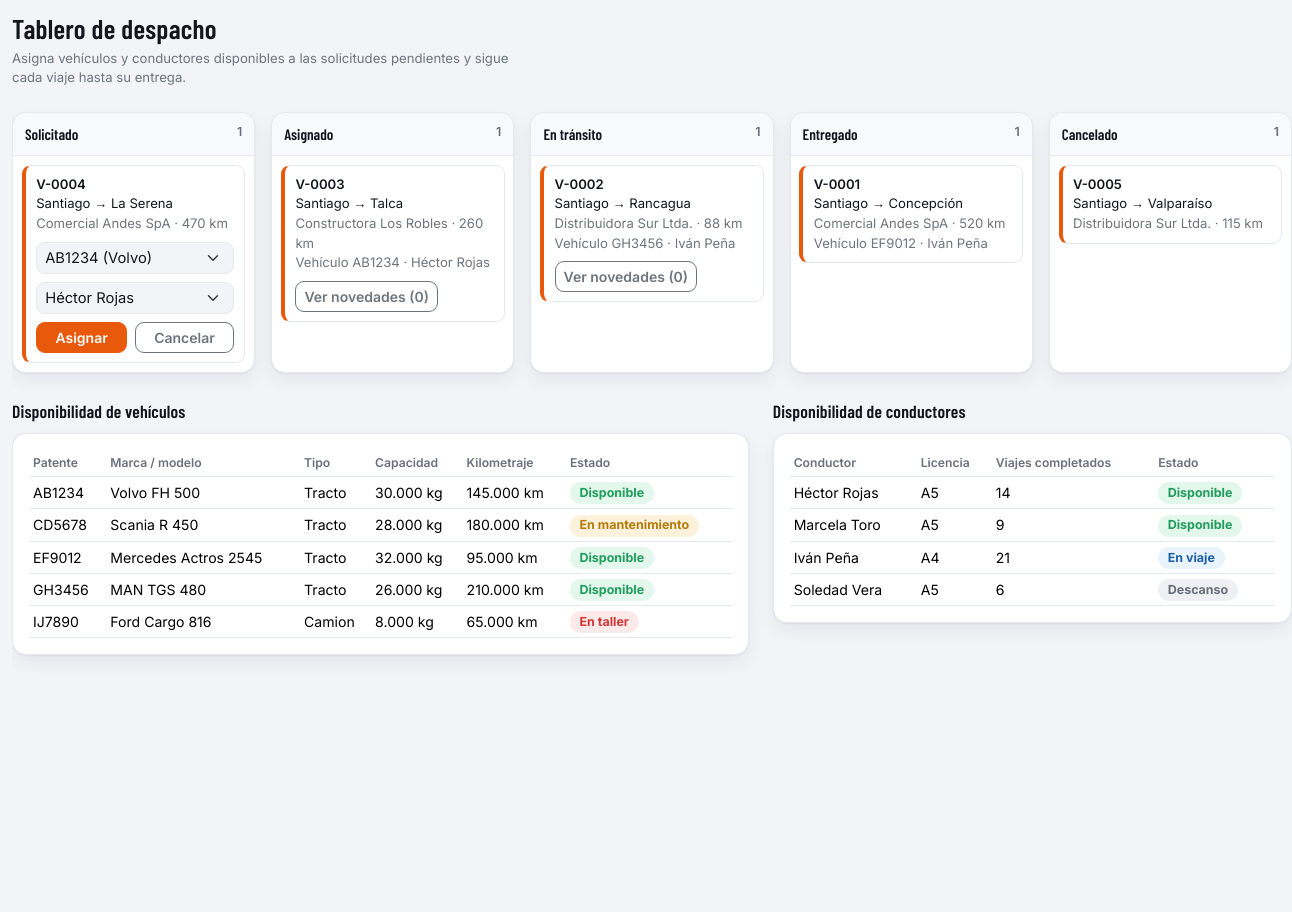
Test case: SupervisorView › permite elegir el vehículo y el conductor antes de asignar
Select "Marcela Toro" in the dropdown named "Conductor para V-0004" at (135, 298), box [36,282,234,314]
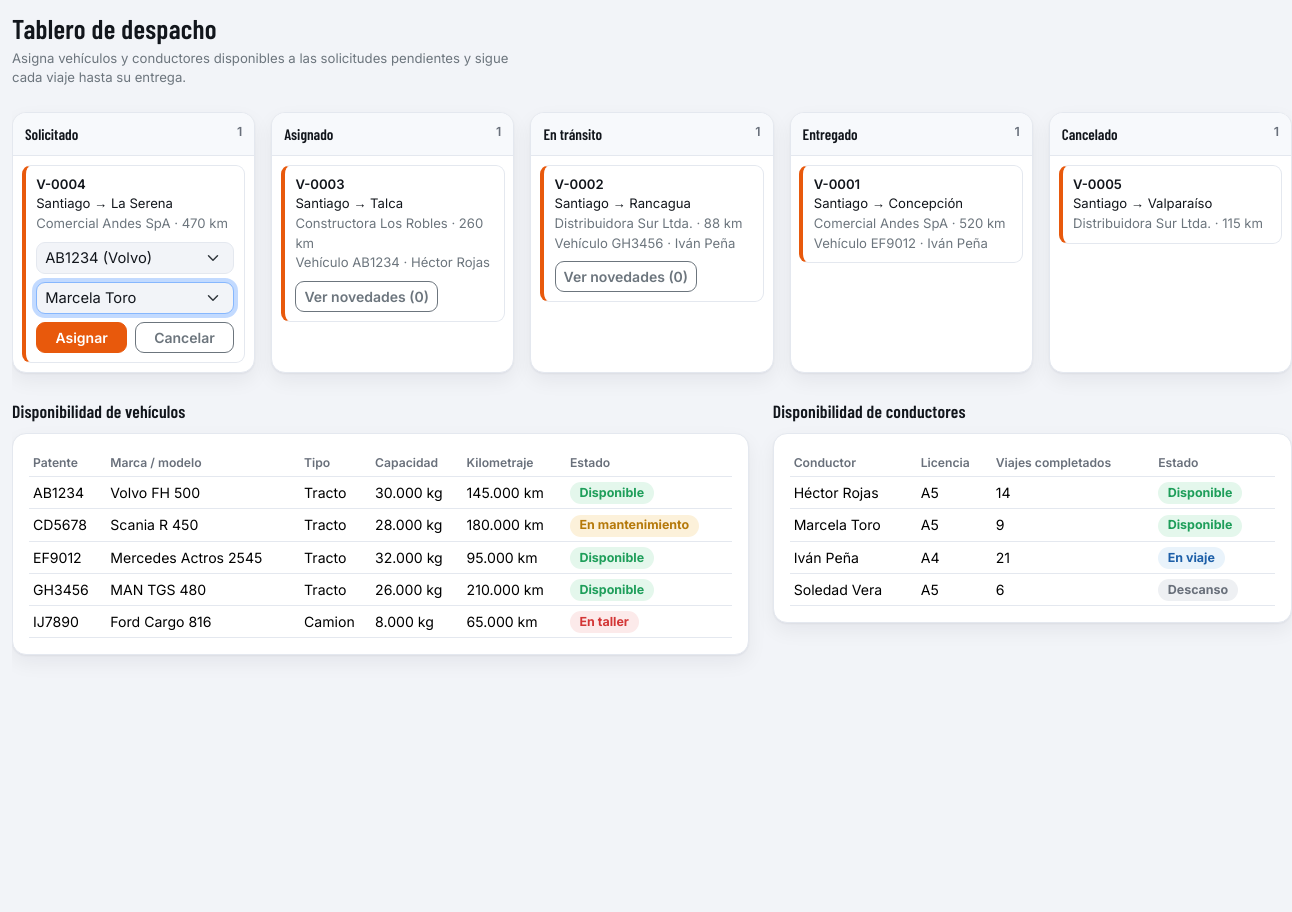
Click the button "Asignar" at (82, 337), box [36,322,127,353]
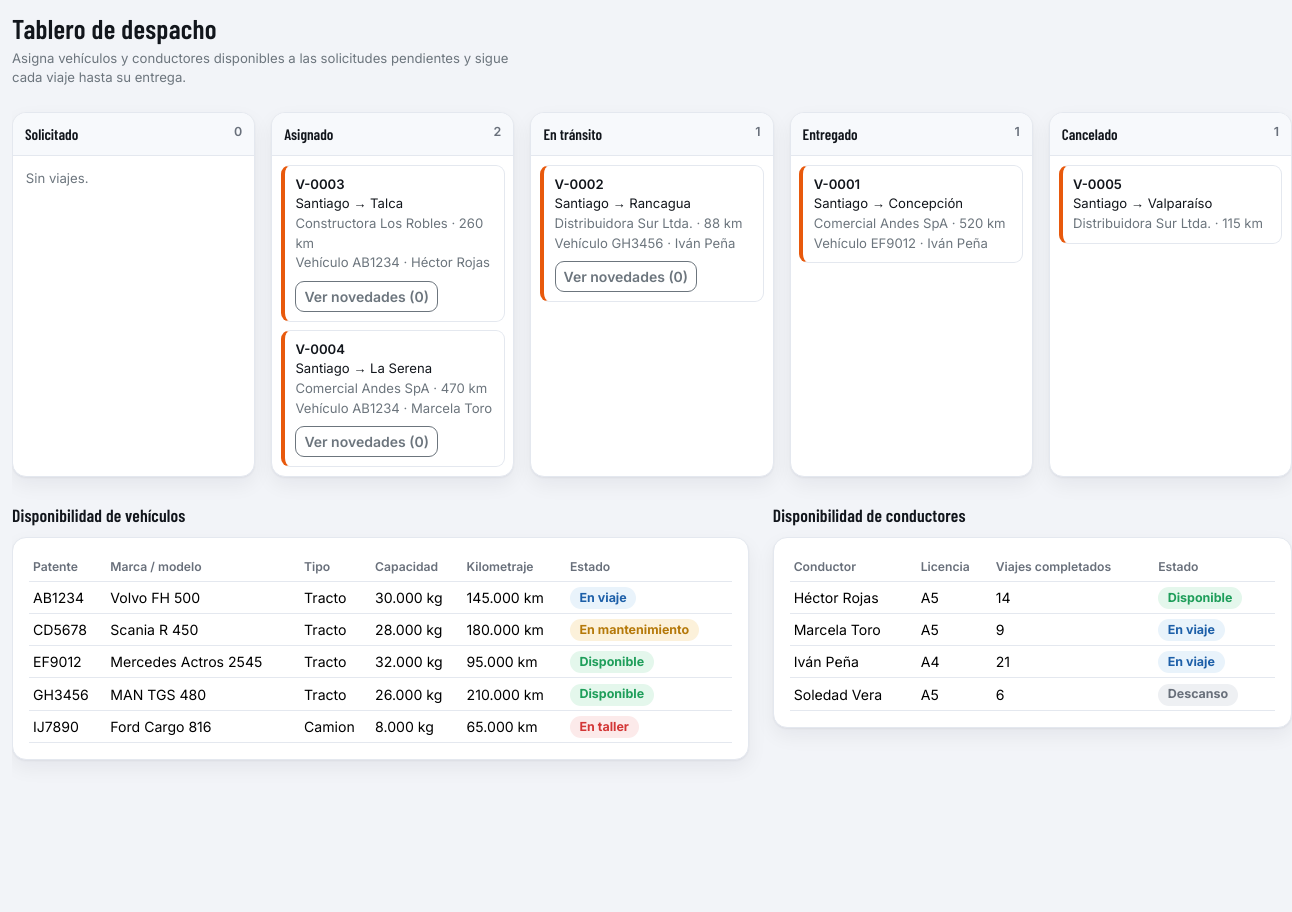
Result: the text "Vehículo AB1234 · Marcela Toro" is shown at [295,399,493,418]
